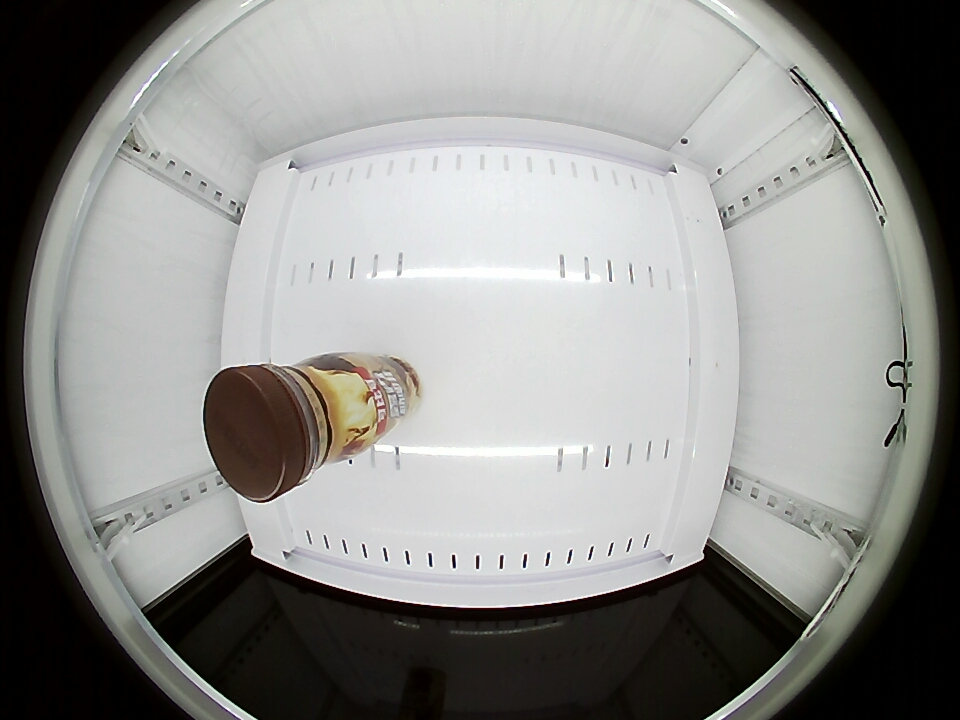lujikafei: (202, 356, 374, 502)
